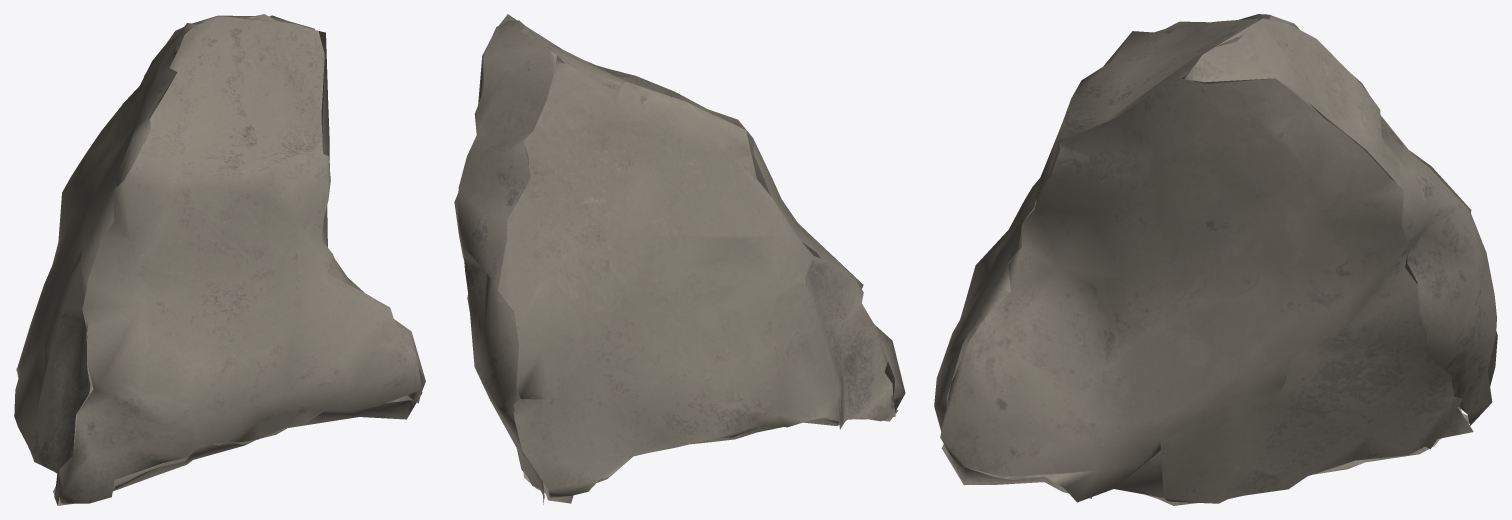
Rendered from moon-rock-05.glb.
The picture shows the model from 3 angles, left to right: view 1: azimuth 30°, elevation 25°; view 2: azimuth 150°, elevation 25°; view 3: azimuth 270°, elevation 25°; orthographic projection. The views are drawn at different scales.
Visible parts, largest first — view 1: moon_rock_05_LOD0; view 2: moon_rock_05_LOD0; view 3: moon_rock_05_LOD0.
Part boxes in pixels (x1,y1,x2,y2): moon_rock_05_LOD0: [14, 14, 425, 505]; moon_rock_05_LOD0: [454, 14, 905, 504]; moon_rock_05_LOD0: [934, 14, 1497, 505].
Bounding box in the file's own units: 0.0716 × 0.0735 × 0.0808.
Materials: 1 (1 with a texture image).
